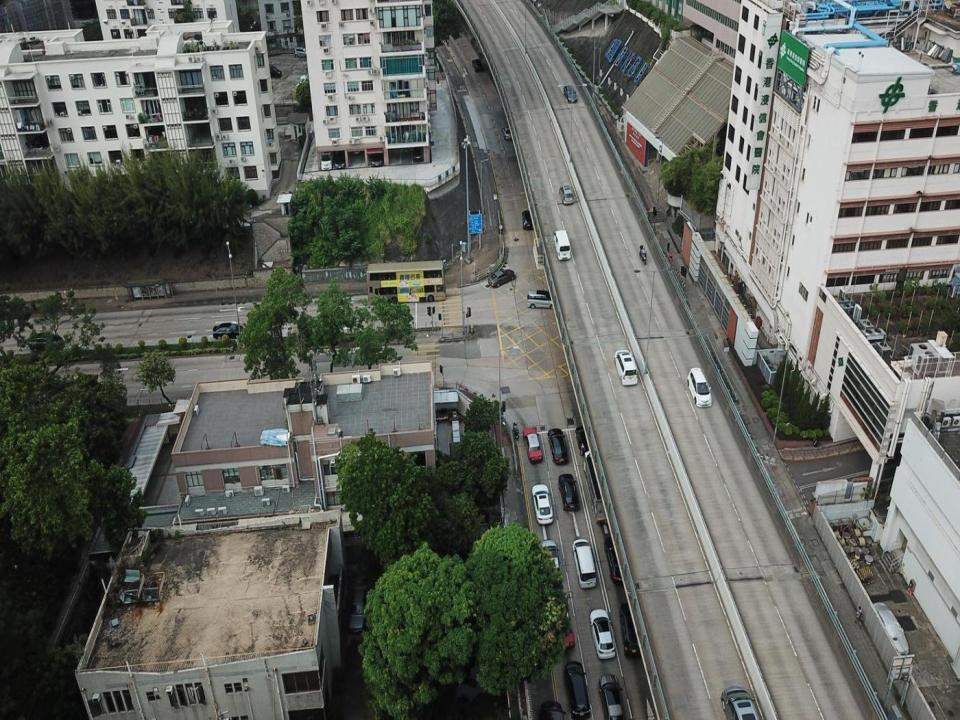car: (550, 592, 575, 650), (590, 608, 616, 658), (598, 673, 625, 719), (603, 536, 628, 583), (687, 366, 711, 408), (558, 472, 581, 512), (531, 484, 553, 524), (614, 350, 638, 386), (542, 539, 561, 581), (547, 427, 567, 464), (522, 427, 542, 463), (211, 322, 243, 340), (489, 269, 516, 287), (576, 425, 590, 456), (559, 184, 574, 204), (564, 83, 578, 102), (522, 209, 533, 230), (502, 124, 514, 139), (472, 58, 483, 74)
truck: (586, 450, 616, 523)
van: (620, 600, 649, 660), (563, 661, 591, 718), (720, 684, 758, 719), (572, 538, 597, 590), (528, 290, 556, 310), (554, 230, 571, 262)
